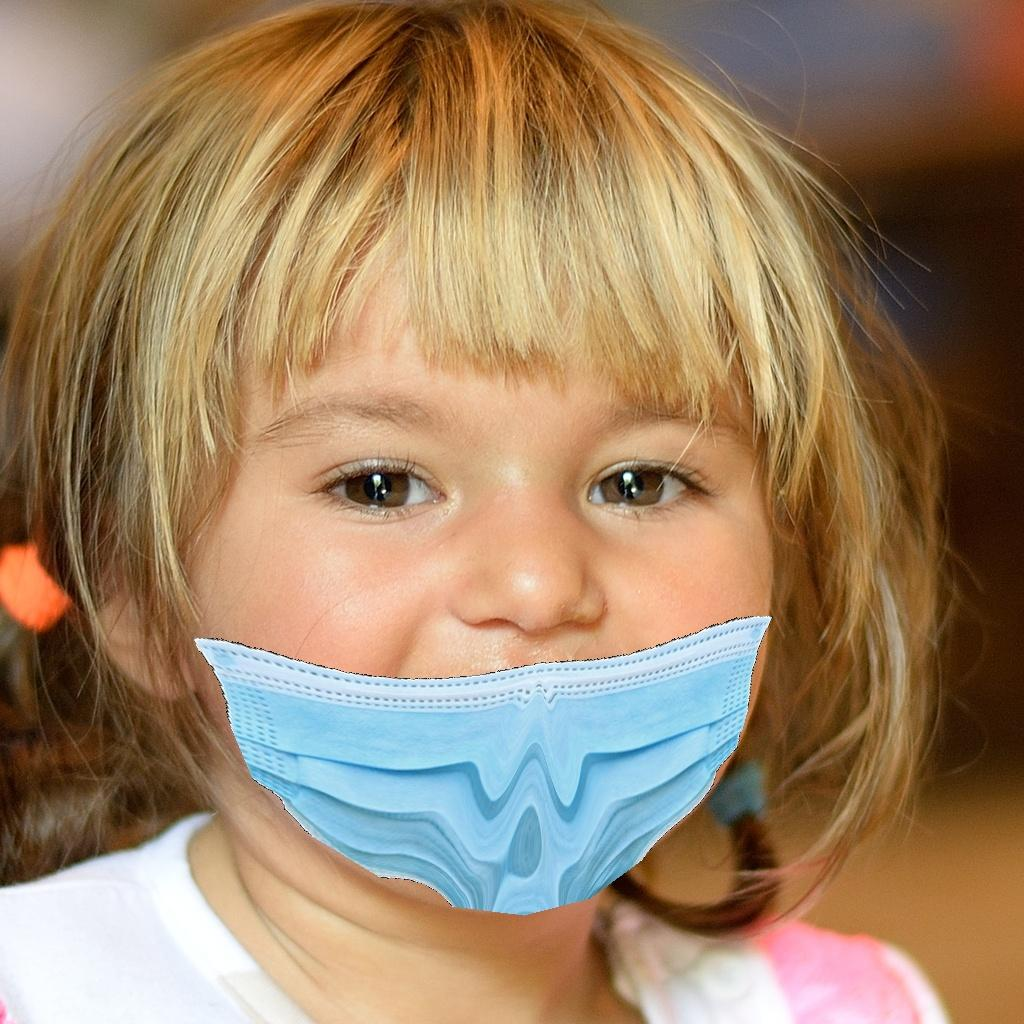Máscara Incorreta: (192, 352, 793, 928)
